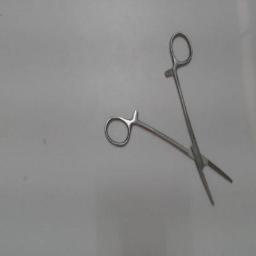Mayo Needle Holder: (101, 31, 241, 215)
